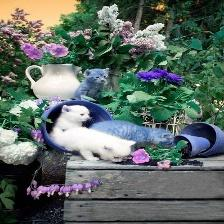kedo: (58, 128, 136, 162), (50, 105, 91, 141)
